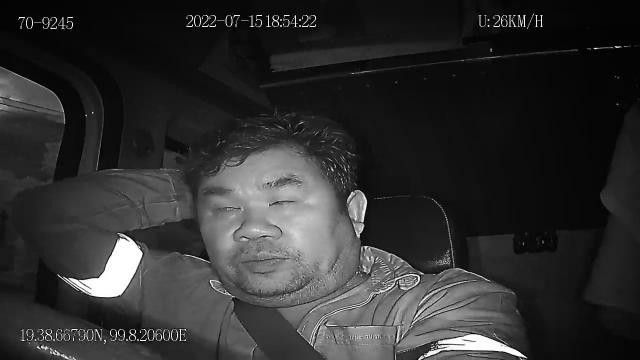SafeDriving: (202, 194, 247, 218)
Seatbelt: (229, 294, 327, 360)
